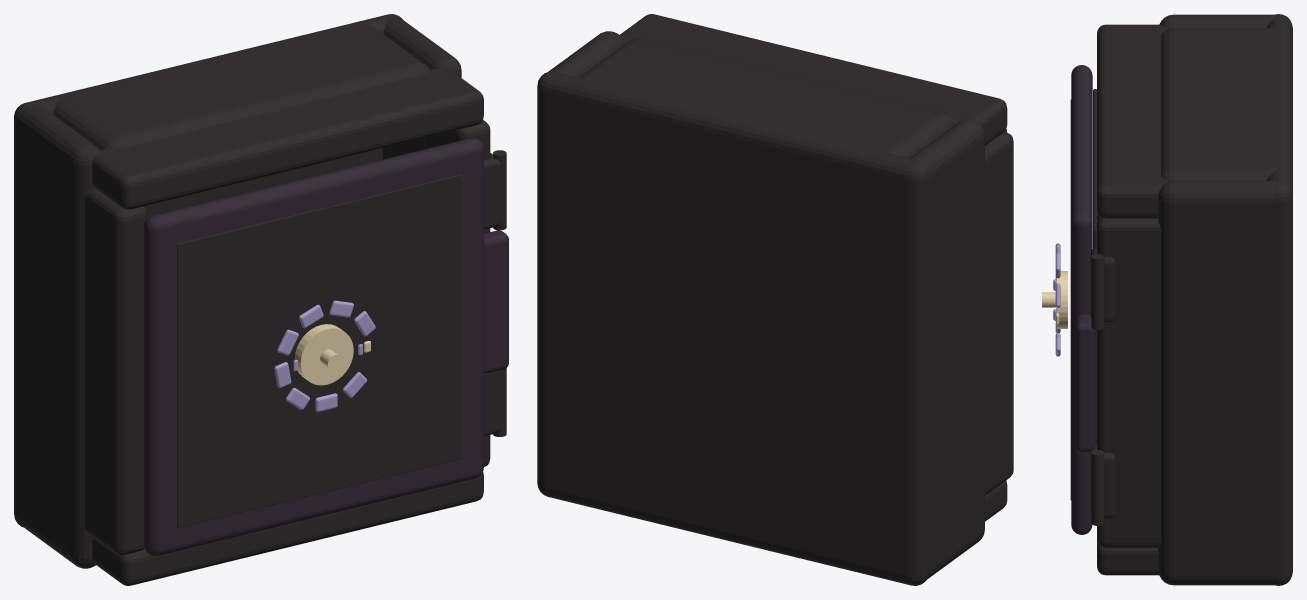
Rendered from vault-final.glb.
3 renders of one model, left to right at view 1: azimuth 30°, elevation 25°; view 2: azimuth 150°, elevation 25°; view 3: azimuth 270°, elevation 25°, orthographic. The views are drawn at different scales.
Visible parts, largest first — view 1: Door_Seam_Inset, Door_Panel, Body_Shell_Left, Door_Frame_Top, Body_Shell_Top, Door_Frame_Left, Door_Frame_Bottom, Body_Shell_Back, Hinge_Leaf_Door, Lock_Core, Body_Shell_Right, Door_Frame_Right (+2 smaller); view 2: Body_Shell_Back, Body_Shell_Left, Body_Shell_Top, Door_Frame_Top, Door_Frame_Left, Body_Shell_Right; view 3: Body_Shell_Right, Door_Frame_Right, Body_Shell_Top, Door_Frame_Top, Body_Shell_Back, Door_Panel, Hinge_Leaf_Door, Door_Frame_Bottom, Body_Shell_Left, Hinge_Pin_Bottom, Hinge_Pin_Top, Hinge_Leaf_Body_Top (+4 smaller).
Part boxes in pixels (x1,y1,x2,y2): Door_Seam_Inset: (177,174,461,527); Door_Panel: (144,138,483,556); Body_Shell_Left: (16,104,99,568); Door_Frame_Top: (92,68,483,209); Body_Shell_Top: (53,23,429,150); Door_Frame_Left: (84,188,146,555); Door_Frame_Bottom: (92,472,483,585); Body_Shell_Back: (14,14,402,527); Hinge_Leaf_Door: (484,230,508,373); Lock_Core: (294,324,353,385); Body_Shell_Right: (382,16,461,159); Door_Frame_Right: (424,120,490,466); Body_Shell_Back: (537,71,928,585); Body_Shell_Left: (910,119,984,579); Body_Shell_Top: (579,38,953,157); Door_Frame_Top: (620,14,1007,145); Door_Frame_Left: (985,132,1013,495); Body_Shell_Right: (548,31,623,77); Body_Shell_Right: (1158,181,1277,585); Door_Frame_Right: (1097,215,1160,547); Body_Shell_Top: (1161,28,1277,181); Door_Frame_Top: (1097,24,1168,218); Body_Shell_Back: (1266,14,1292,585); Door_Panel: (1071,65,1092,534); Hinge_Leaf_Door: (1075,314,1094,451); Door_Frame_Bottom: (1097,540,1158,575); Body_Shell_Left: (1159,14,1277,28); Hinge_Pin_Bottom: (1091,450,1104,525); Hinge_Pin_Top: (1091,254,1104,329); Hinge_Leaf_Body_Top: (1090,248,1115,322).
Size of the model in its own units: 1.22 by 1.25 by 0.707.
